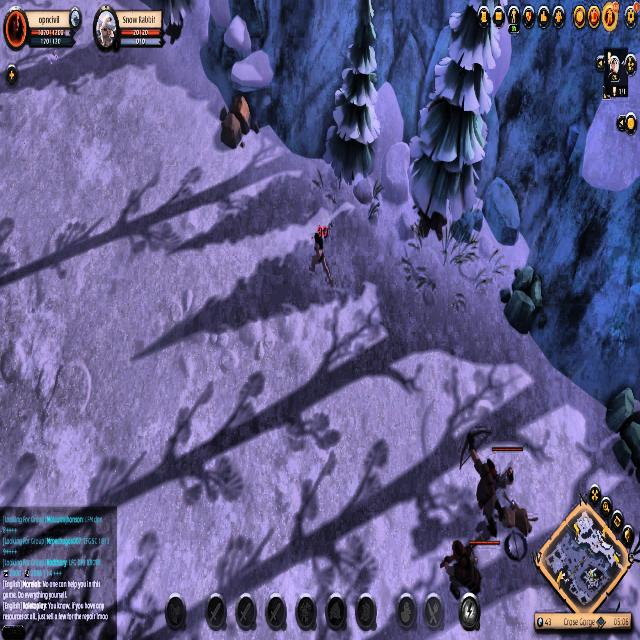limestone: (215, 90, 258, 156)
mob: (457, 426, 522, 542), (436, 534, 484, 603)
sandstone: (500, 260, 547, 344), (603, 382, 640, 484)
